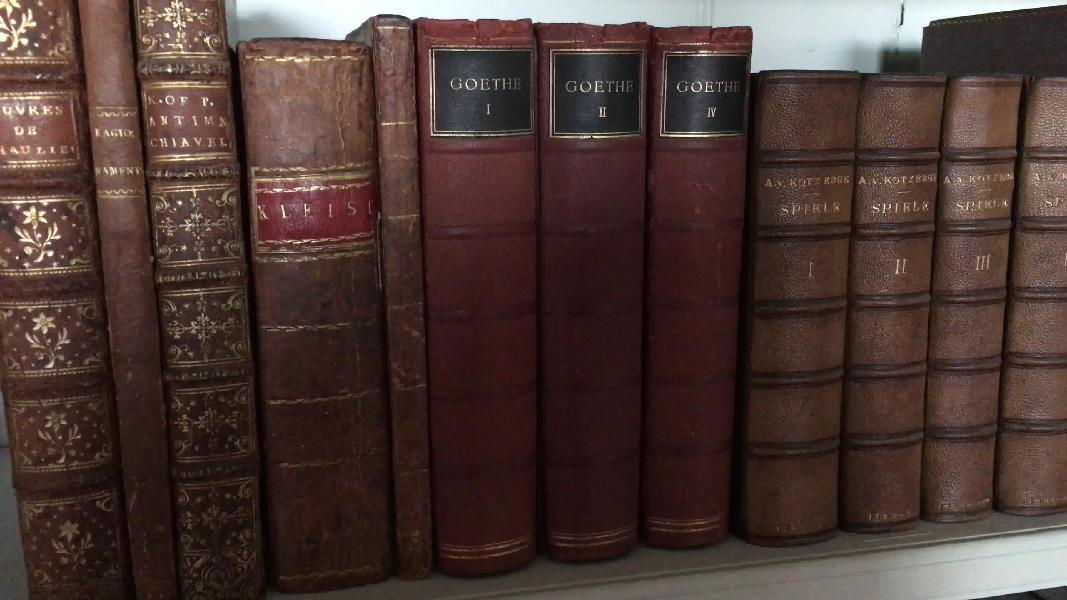Aa6-10: (366, 3, 458, 591)
Aa6-11_13: (405, 10, 753, 571)
Aa6-14_17: (739, 64, 1067, 537)
Aa6-6: (1, 7, 124, 600)
Aa6-7: (77, 3, 207, 600)
Aa6-8: (134, 4, 277, 600)
Aa6-9: (223, 29, 408, 597)
